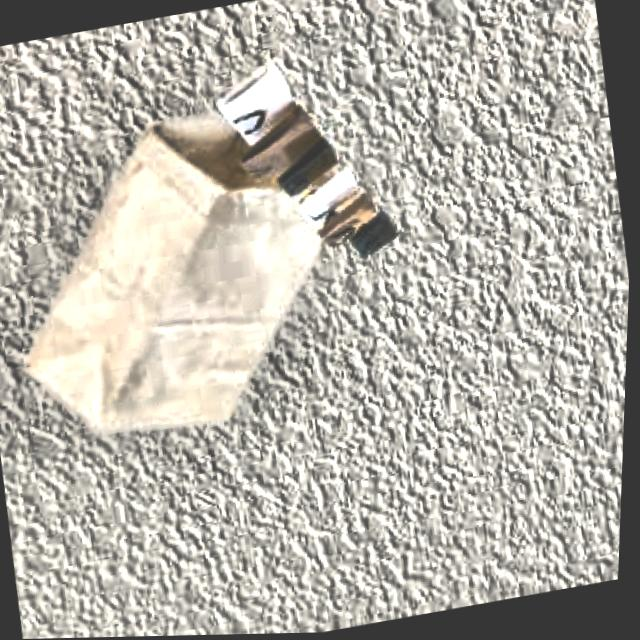Paper-bag: (0, 89, 380, 477), (185, 23, 408, 289)
